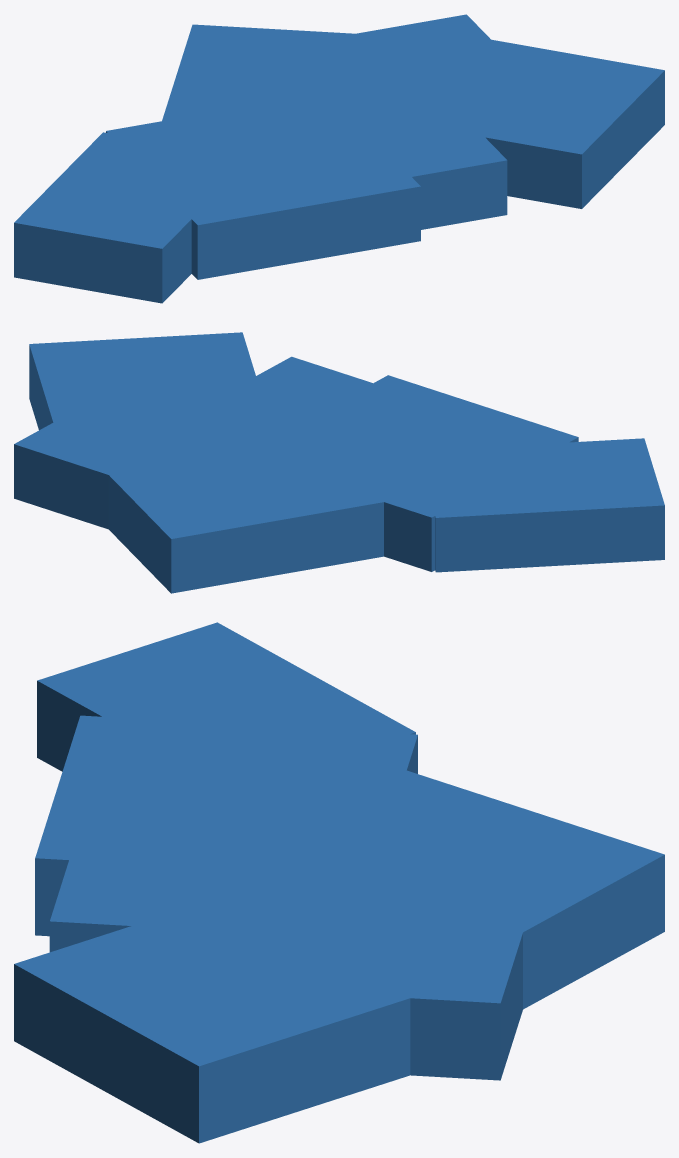
File: p_PuddleC.fbx
3 views of the same model, one above another, from view 1: azimuth 30°, elevation 25°; view 2: azimuth 150°, elevation 25°; view 3: azimuth 270°, elevation 25° (orthographic). The views are drawn at different scales.
Visible parts, largest first — view 1: Water__26_, Water__3_, Water__30_, Water__28_, Water__27_, Water__29_; view 2: Water__27_, Water__30_, Water__3_, Water__26_, Water__28_, Water__29_; view 3: Water__28_, Water__3_, Water__26_, Water__27_, Water__30_, Water__29_.
Part boxes in pixels (x1,y1,x2,y2): Water__26_: (106,100,420,279); Water__3_: (244,14,557,147); Water__30_: (14,132,249,303); Water__28_: (426,35,664,208); Water__27_: (162,24,372,143); Water__29_: (376,124,507,229); Water__27_: (101,429,411,593); Water__30_: (415,438,664,572); Water__3_: (14,364,350,529); Water__26_: (242,375,578,571); Water__28_: (29,332,269,433); Water__29_: (238,356,372,427); Water__28_: (14,926,437,1143); Water__3_: (163,849,545,1080); Water__26_: (35,715,417,936); Water__27_: (215,762,664,1009); Water__30_: (37,622,415,788); Water__29_: (49,860,225,952).
Bounding box in the file's own units: 617 × 50 × 382.
